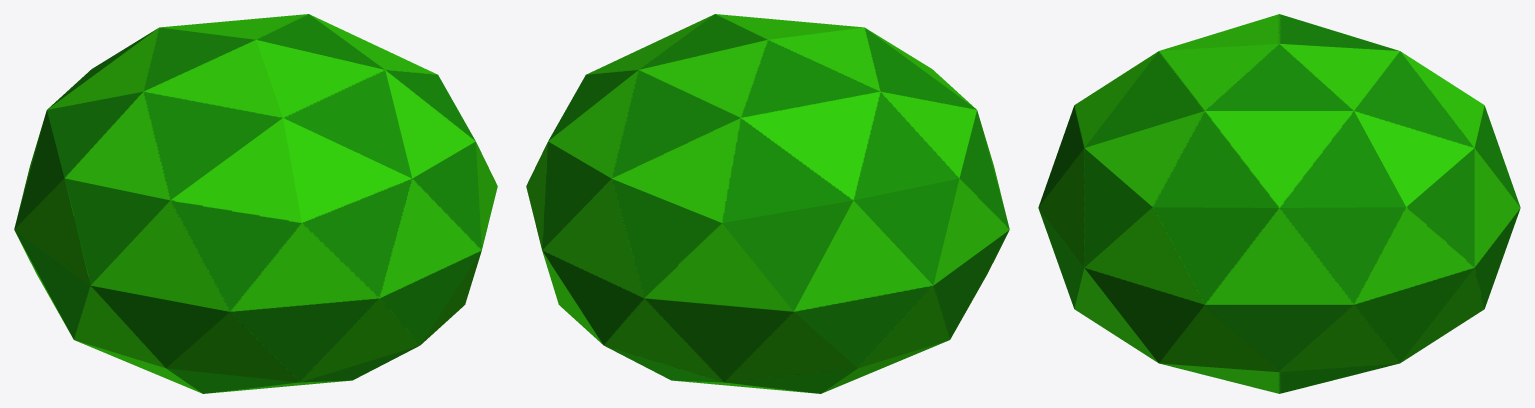
The model's file is bush.fbx.
3 views of the same model, side by side, from view 1: azimuth 30°, elevation 25°; view 2: azimuth 150°, elevation 25°; view 3: azimuth 270°, elevation 25° (orthographic). The views are drawn at different scales.
Parts seen in each view (by area): view 1: bush; view 2: bush; view 3: bush.
Part boxes in pixels (<box>): bush: <box>14,14,497,393</box>; bush: <box>526,14,1009,393</box>; bush: <box>1038,14,1520,393</box>.
Size of the model in its own units: 1.01 by 0.751 by 1.06.
1 material, 1 textured.
